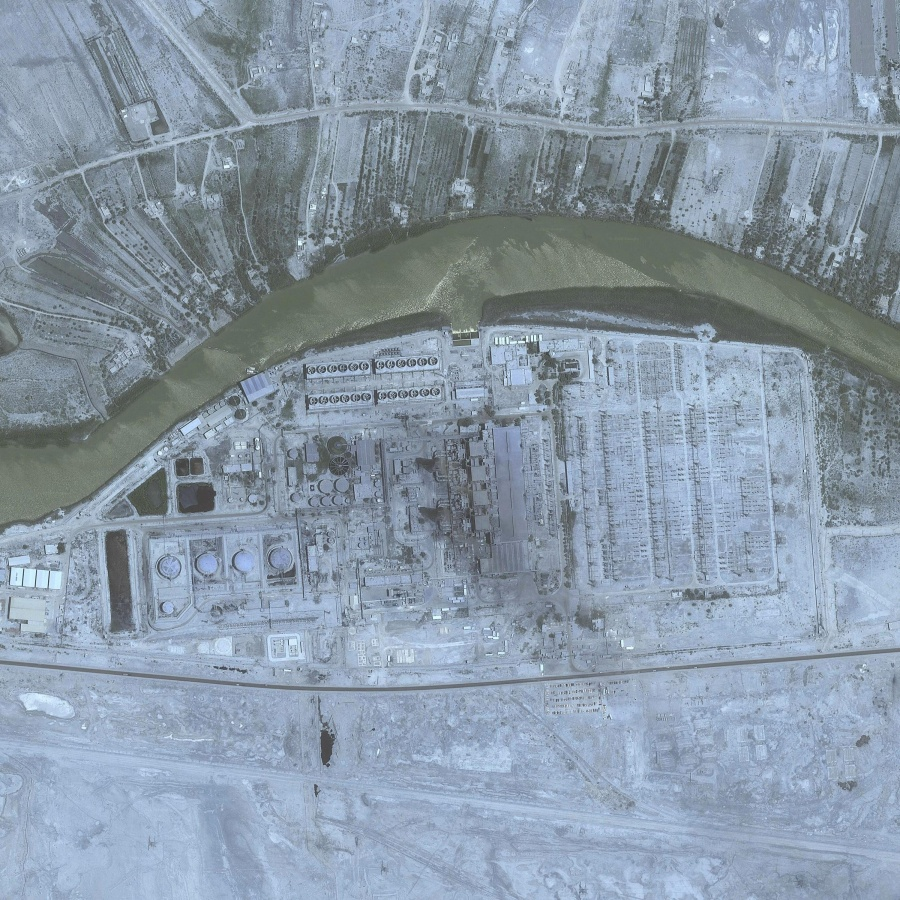PowerPlant: (82, 350, 582, 649)
